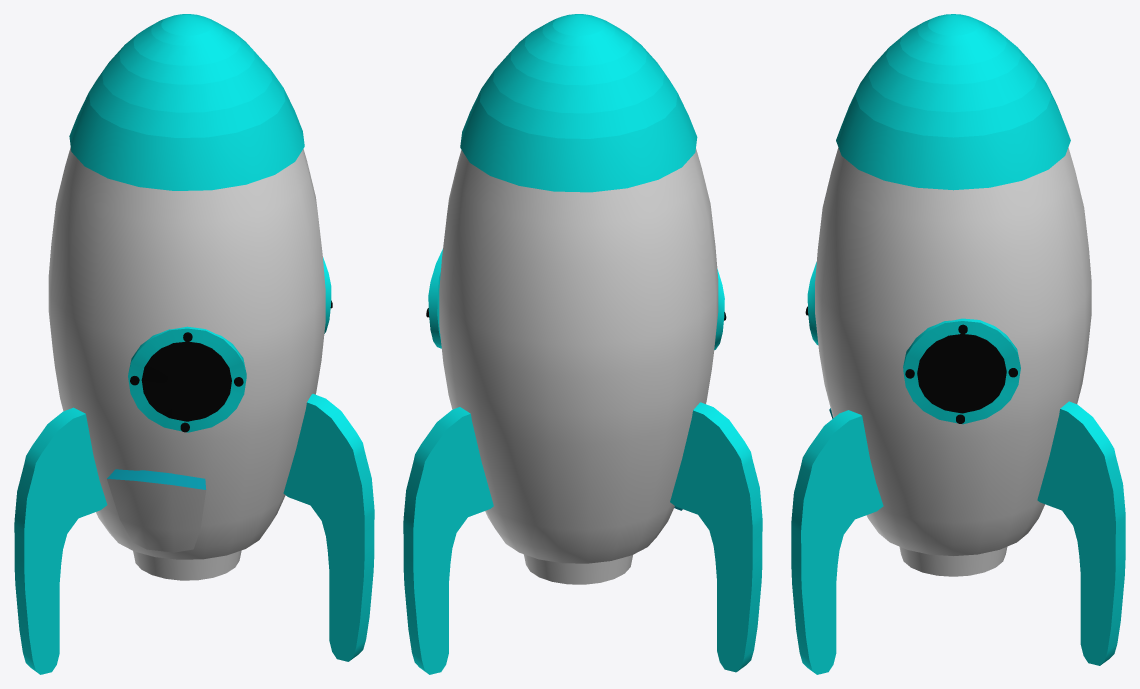
File: rocket.fbx
3 views of the same model, side by side, from view 1: azimuth 30°, elevation 25°; view 2: azimuth 150°, elevation 25°; view 3: azimuth 270°, elevation 25° (orthographic).
Parts seen in each view (by area): view 1: quantum_rocket:body, quantum_rocket:cap, quantum_rocket:fin, quantum_rocket:fin2, quantum_rocket:compartment, quantum_rocket:window_glass, quantum_rocket:window_frame; view 2: quantum_rocket:body, quantum_rocket:cap, quantum_rocket:fin, quantum_rocket:fin1, quantum_rocket:window_frame; view 3: quantum_rocket:body, quantum_rocket:cap, quantum_rocket:fin2, quantum_rocket:fin1, quantum_rocket:window_glass, quantum_rocket:window_frame (×2).
Part boxes in pixels (bbox=[...]): quantum_rocket:body: bbox=[48, 148, 325, 580]; quantum_rocket:cap: bbox=[69, 14, 304, 190]; quantum_rocket:fin: bbox=[14, 407, 107, 674]; quantum_rocket:fin2: bbox=[283, 394, 374, 661]; quantum_rocket:compartment: bbox=[107, 469, 206, 552]; quantum_rocket:window_glass: bbox=[141, 341, 231, 421]; quantum_rocket:window_frame: bbox=[128, 326, 246, 432]; quantum_rocket:body: bbox=[439, 149, 718, 584]; quantum_rocket:cap: bbox=[460, 14, 697, 192]; quantum_rocket:fin: bbox=[670, 402, 762, 672]; quantum_rocket:fin1: bbox=[403, 407, 493, 674]; quantum_rocket:window_frame: bbox=[428, 249, 442, 348]; quantum_rocket:body: bbox=[815, 147, 1091, 576]; quantum_rocket:cap: bbox=[836, 14, 1070, 190]; quantum_rocket:fin2: bbox=[791, 410, 883, 674]; quantum_rocket:fin1: bbox=[1037, 401, 1125, 665]; quantum_rocket:window_glass: bbox=[917, 334, 1006, 413]; quantum_rocket:window_frame (×2): bbox=[807, 262, 1020, 424].
Bounding box in the file's own units: 2.75 × 5.4 × 2.68.
